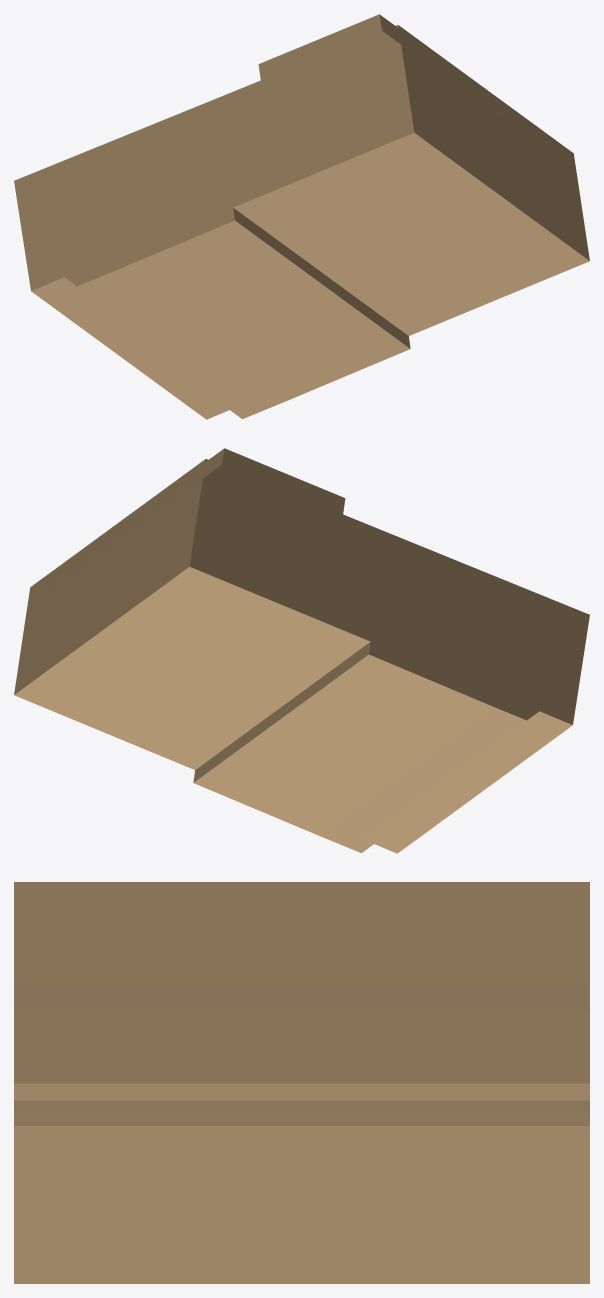
3 renders of one model, top to bottom at view 1: azimuth 30°, elevation 25°; view 2: azimuth 150°, elevation 25°; view 3: azimuth 270°, elevation 25°, orthographic. The views are drawn at different scales.
Visible parts, largest first — view 1: 0_1_2_0_3_1_3_3_1; view 2: 0_1_2_0_3_1_3_3_1; view 3: 0_1_2_0_3_1_3_3_1.
Boxes of the visible parts, x1=… form: 0_1_2_0_3_1_3_3_1: x1=14, y1=14, x2=589, y2=419; 0_1_2_0_3_1_3_3_1: x1=14, y1=448, x2=589, y2=853; 0_1_2_0_3_1_3_3_1: x1=14, y1=882, x2=589, y2=1283.
Bounding box in the file's own units: 35.55 × 16.99 × 27.
